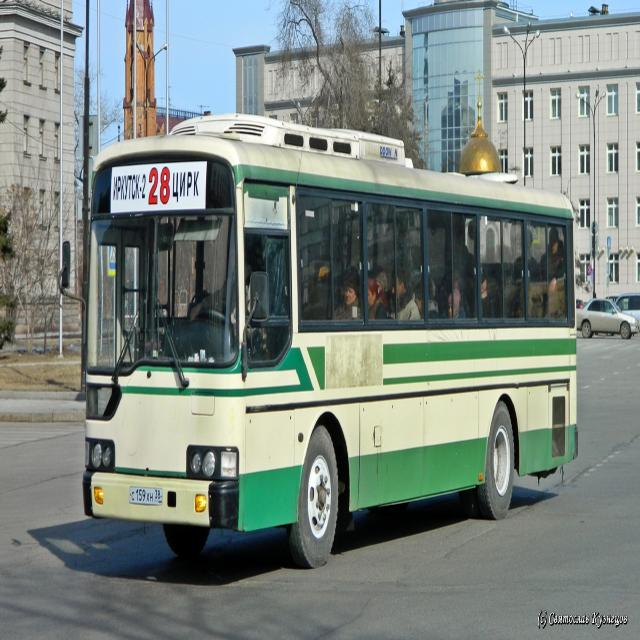number-of-bus: (149, 164, 172, 211)
